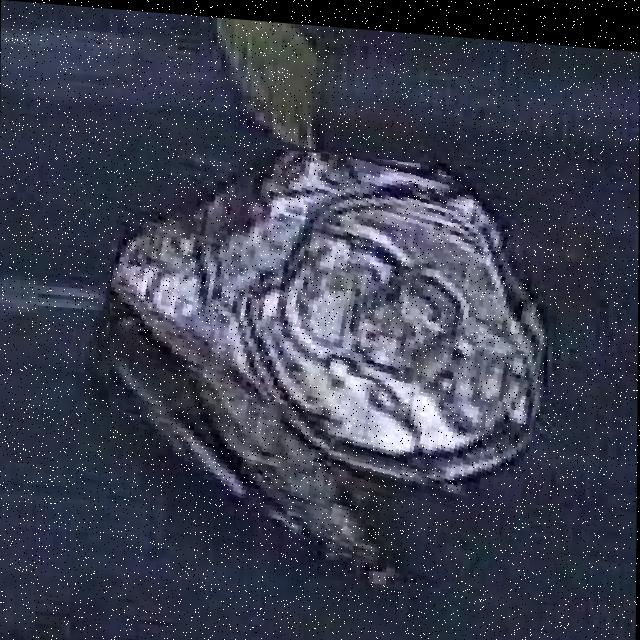litter: (110, 145, 542, 552)
